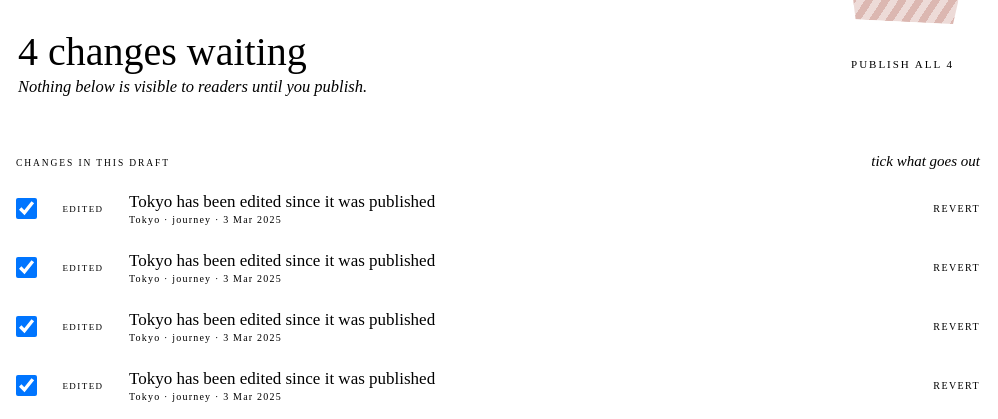
Test: PublishSelection › re-reads the button’s label the moment a box is cleared
Click the 3rd checkbox at [26, 326], box [16, 316, 37, 337]
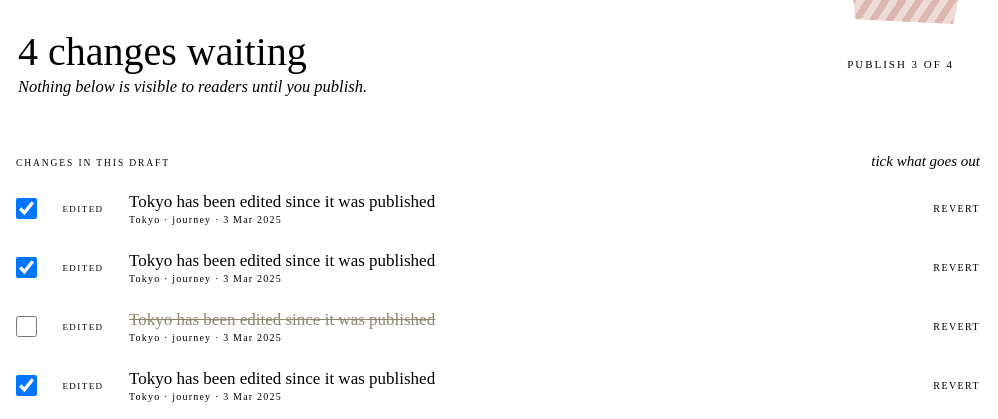
Now the button "Publish 3 of 4" is shown, box [823, 46, 978, 80]
